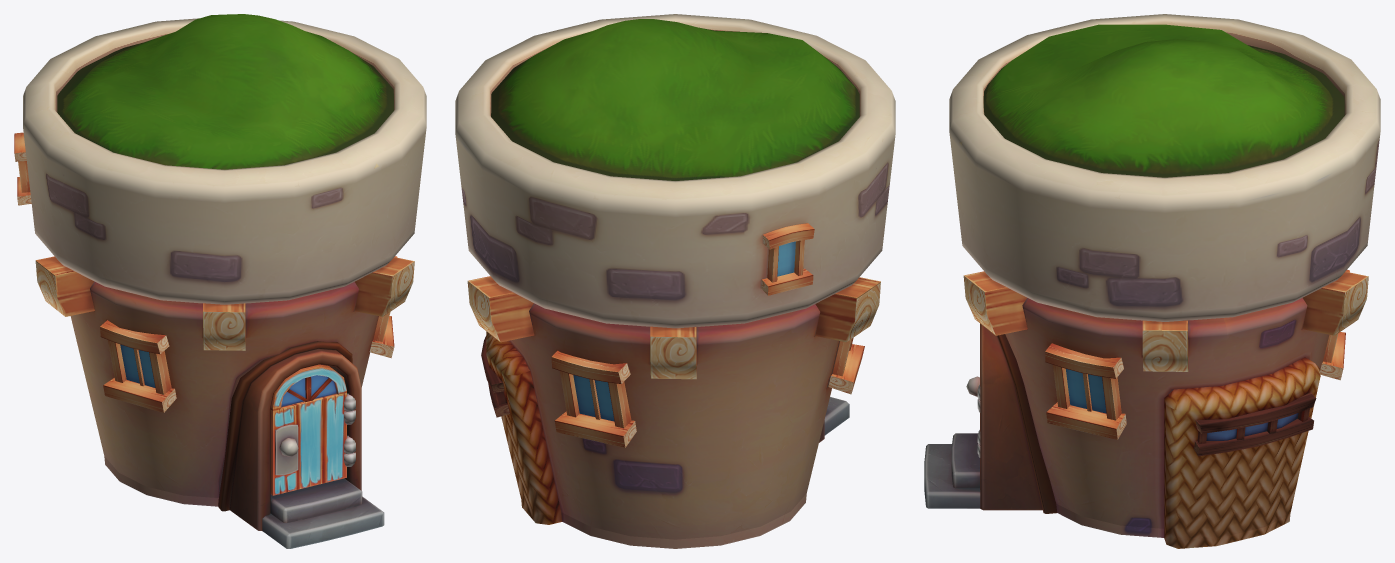
File: SE_House_04a.fbx
3 views of the same model, side by side, from view 1: azimuth 30°, elevation 25°; view 2: azimuth 150°, elevation 25°; view 3: azimuth 270°, elevation 25° (orthographic). The views are drawn at different scales.
Parts seen in each view (by area): view 1: SE_House_04a; view 2: SE_House_04a; view 3: SE_House_04a.
Boxes of the visible parts, box(x1,y1,x2,y2) form: SE_House_04a: box(14, 14, 426, 548); SE_House_04a: box(455, 14, 895, 548); SE_House_04a: box(924, 14, 1380, 548).
Size of the model in its own units: 7.38 by 8.28 by 7.6.
